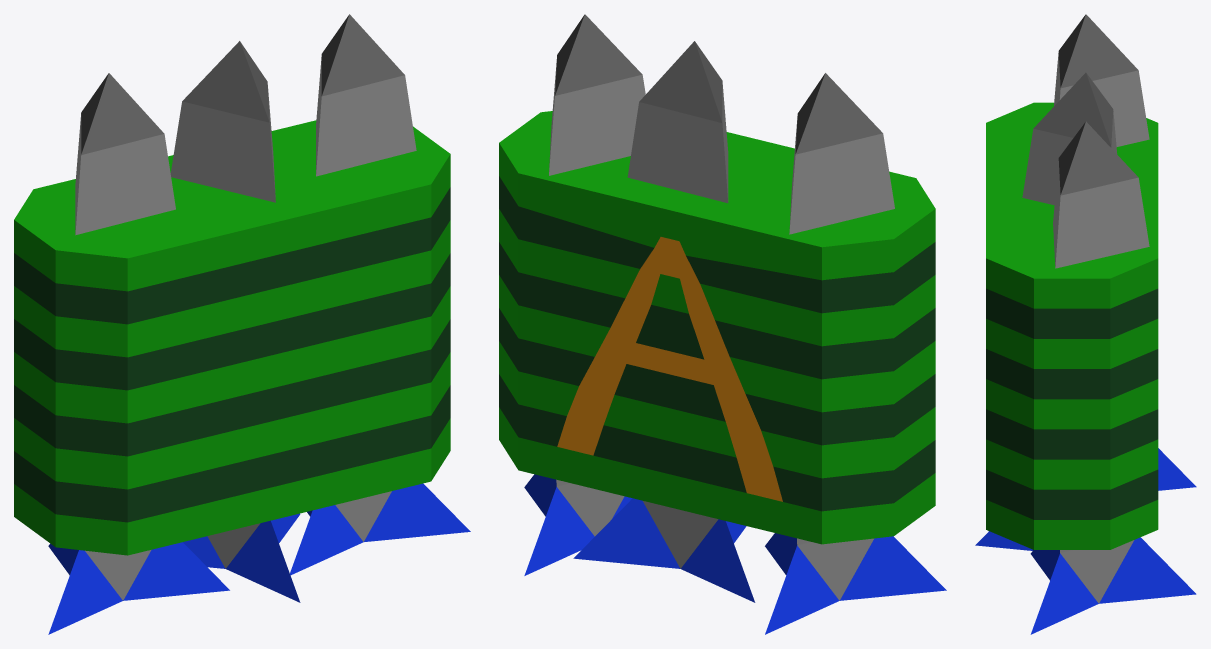
Rendered from power_pickup01.FBX.
3 views of the same model, side by side, from view 1: azimuth 30°, elevation 25°; view 2: azimuth 150°, elevation 25°; view 3: azimuth 270°, elevation 25° (orthographic). The views are drawn at different scales.
Visible parts, largest first — view 1: Box001; view 2: Box001; view 3: Box001.
Boxes of the visible parts, x1=… form: Box001: x1=14, y1=14, x2=470, y2=634; Box001: x1=499, y1=14, x2=946, y2=634; Box001: x1=975, y1=14, x2=1196, y2=634.
Size of the model in its own units: 23.09 by 27.04 by 11.49.
